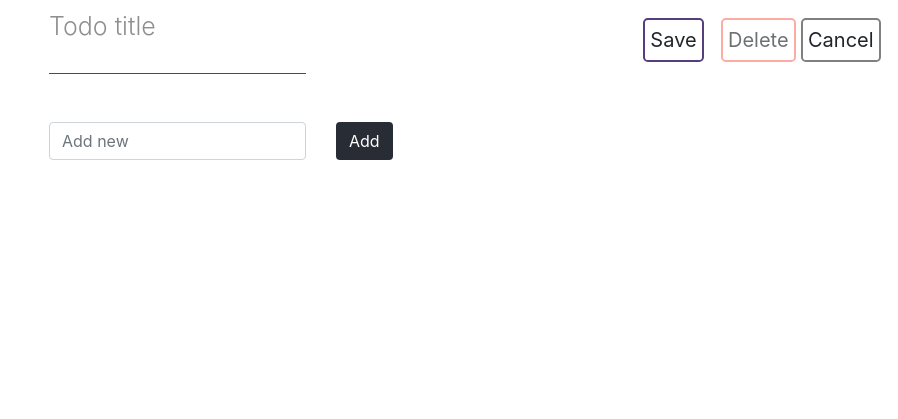
Test: Adding todos › Adding multiple todos
The image size is (898, 419).
Type "This is todo task 0" into the field with placeholder "Add new" at [178, 141], box [49,122,306,160]
Click the button "Add" at [364, 141], box [336,122,393,160]
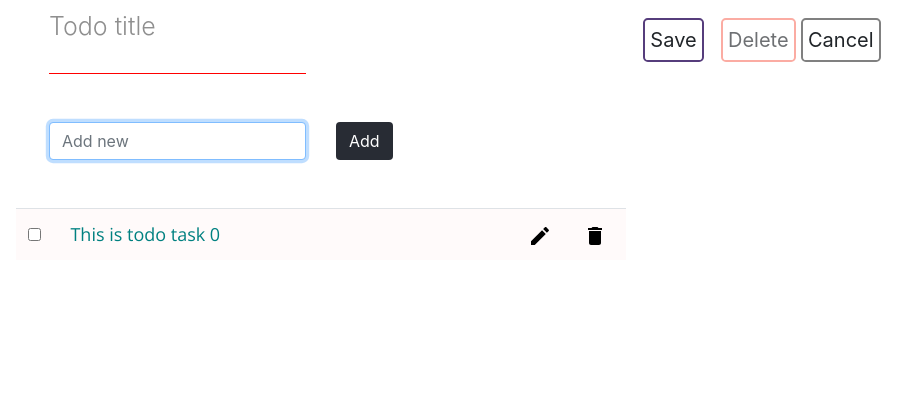
Type "This is todo task 1" into the field with placeholder "Add new" at [178, 141], box [49,122,306,160]
Click the button "Add" at [364, 141], box [336,122,393,160]
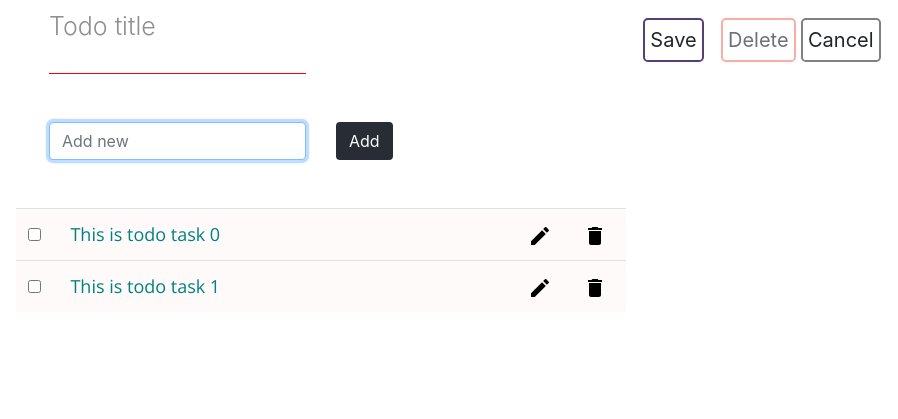
Type "This is todo task 2" into the field with placeholder "Add new" at [178, 141], box [49,122,306,160]
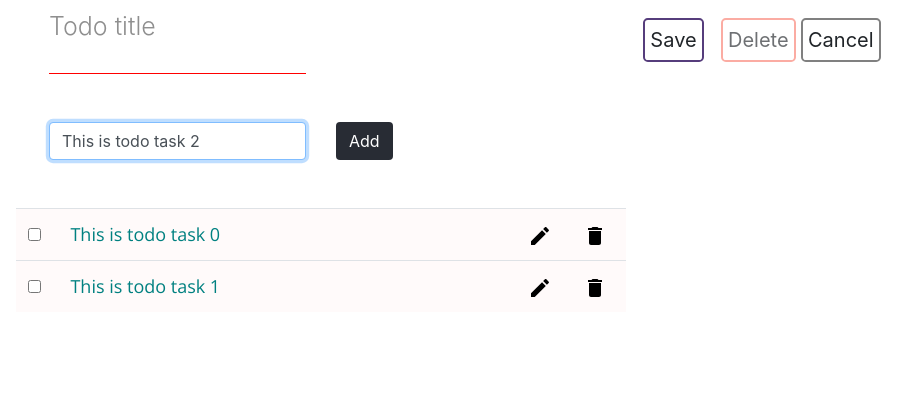
Click the button "Add" at [364, 141], box [336,122,393,160]
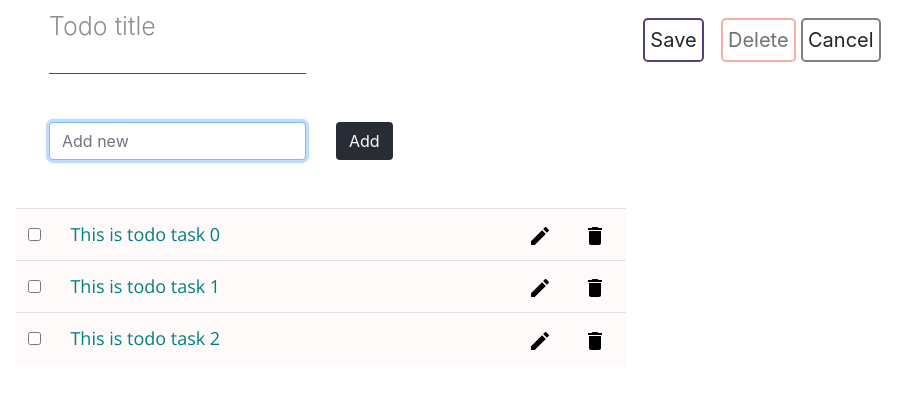
Type "This is todo task 3" into the field with placeholder "Add new" at [178, 141], box [49,122,306,160]
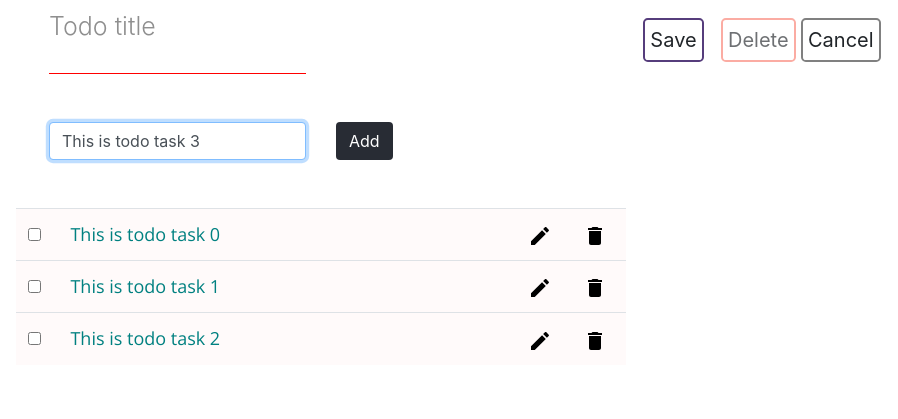
Click the button "Add" at [364, 141], box [336,122,393,160]
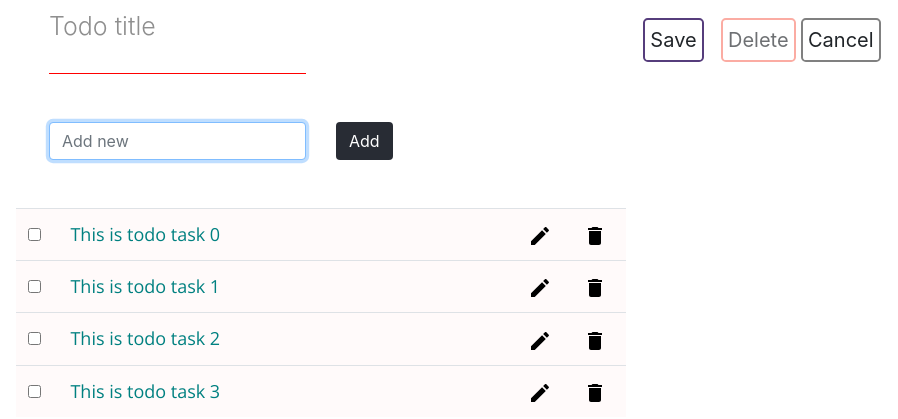
Expected: the text "This is todo task 0" is shown 4 times, [70,222,220,246]; [70,274,220,298]; [70,326,220,350]; [70,379,220,403]
